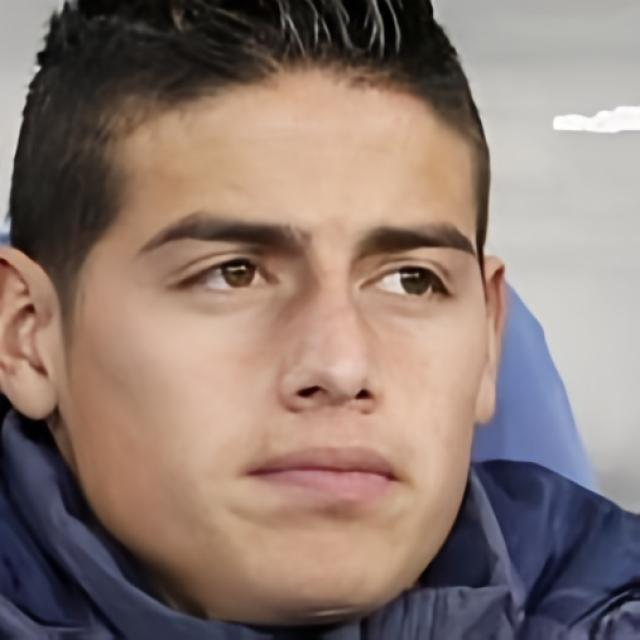disgust: (57, 58, 490, 626)
